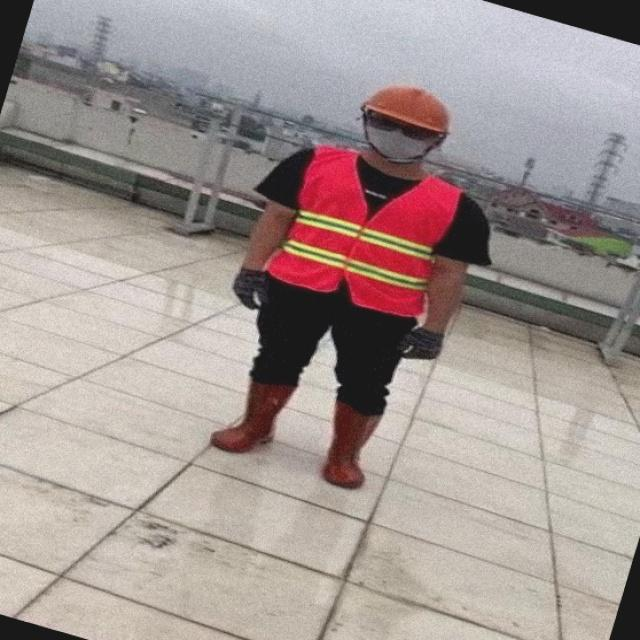helmet: (356, 80, 462, 132)
safety_vest: (265, 142, 462, 330)
